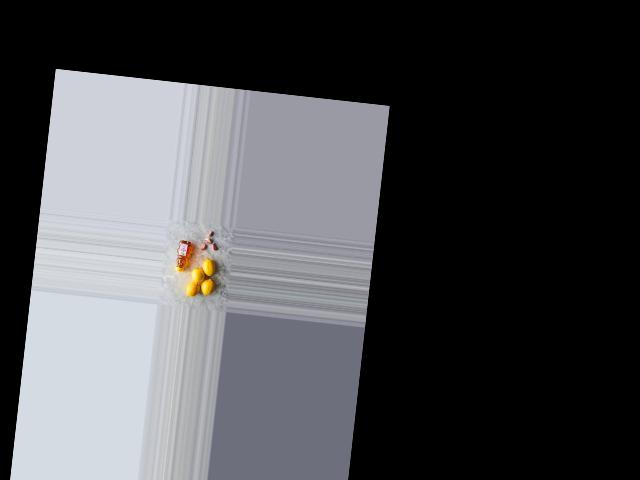lemon: (198, 256, 218, 278)
